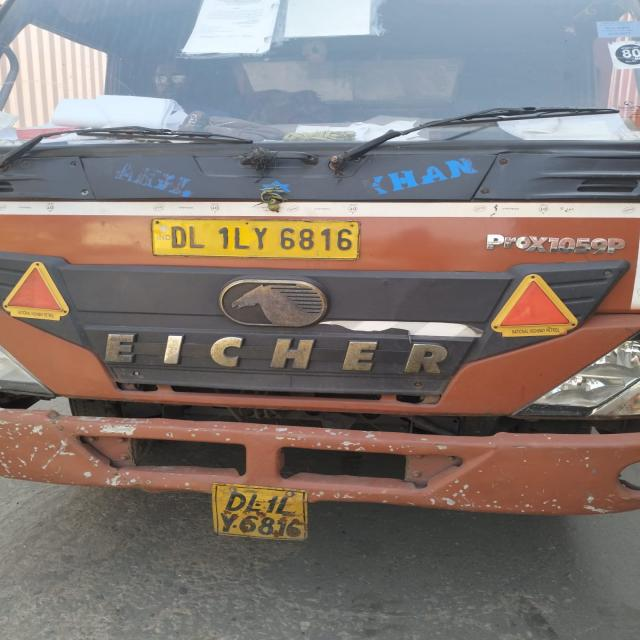License-plate: (150, 218, 358, 259)
